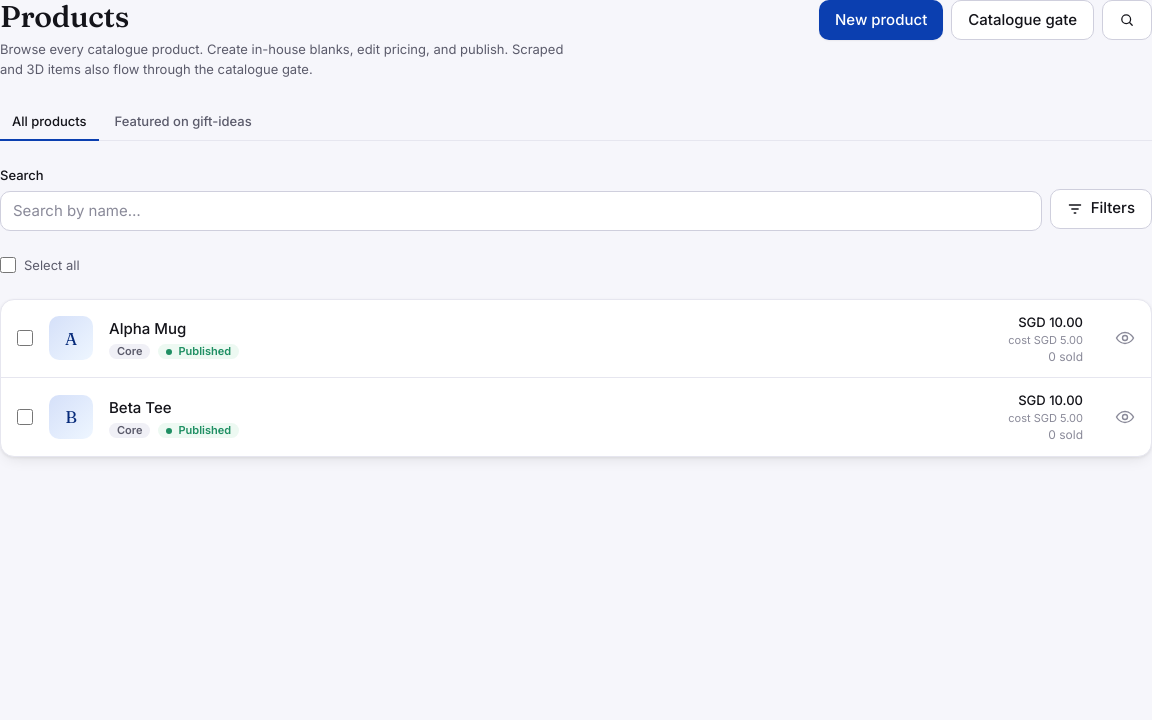
Test case: archives selected products and reflects the outcome
Expected: the text "Alpha Mug" is shown, [109, 319, 186, 338]
Expected: the button "archive selected" is not shown
Step 1. Click the checkbox named "Select Alpha Mug" → (25,338), box [17, 330, 33, 346]
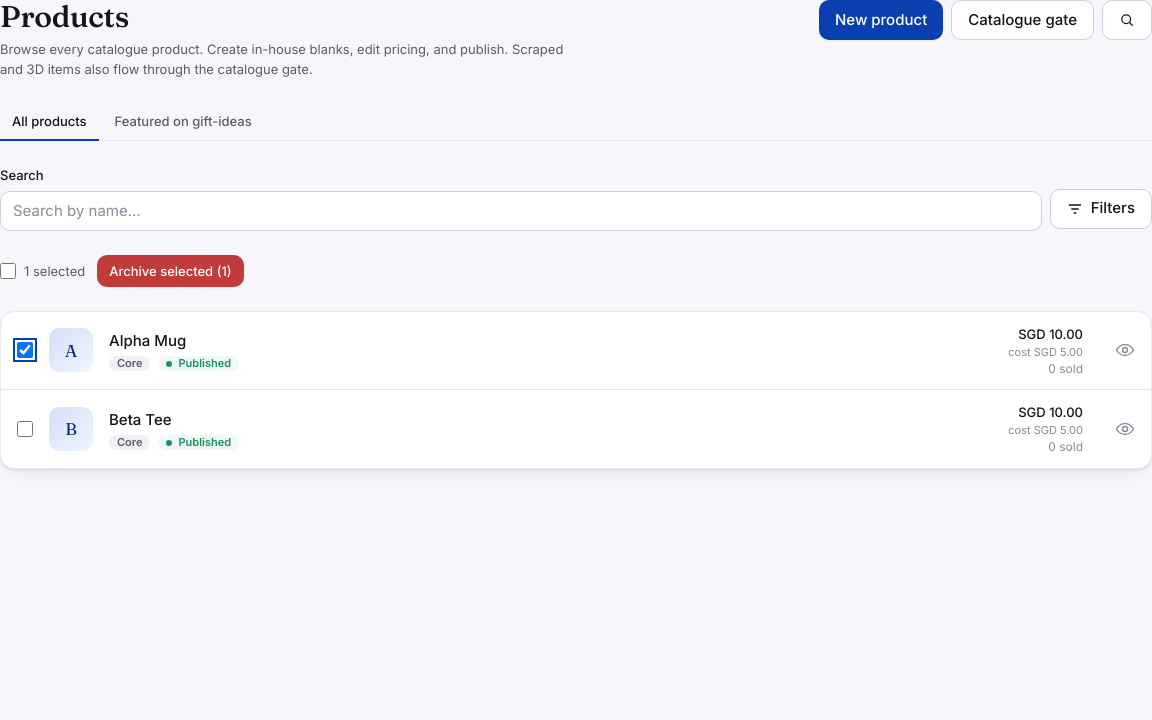
Step 2. Click the button "Archive selected (1)" → (170,270), box [97, 254, 244, 286]
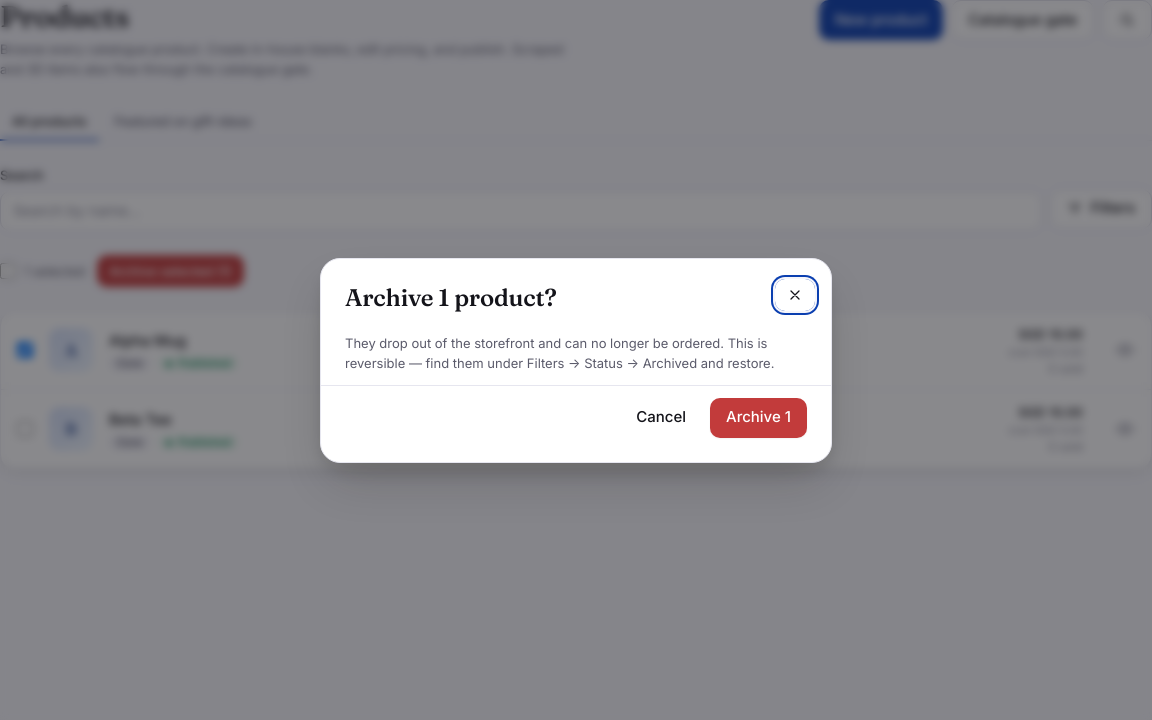
# Confirm dialog, then the destructive action.
Step 3. Click the button "Archive 1" → (758,418), box [710, 398, 807, 438]
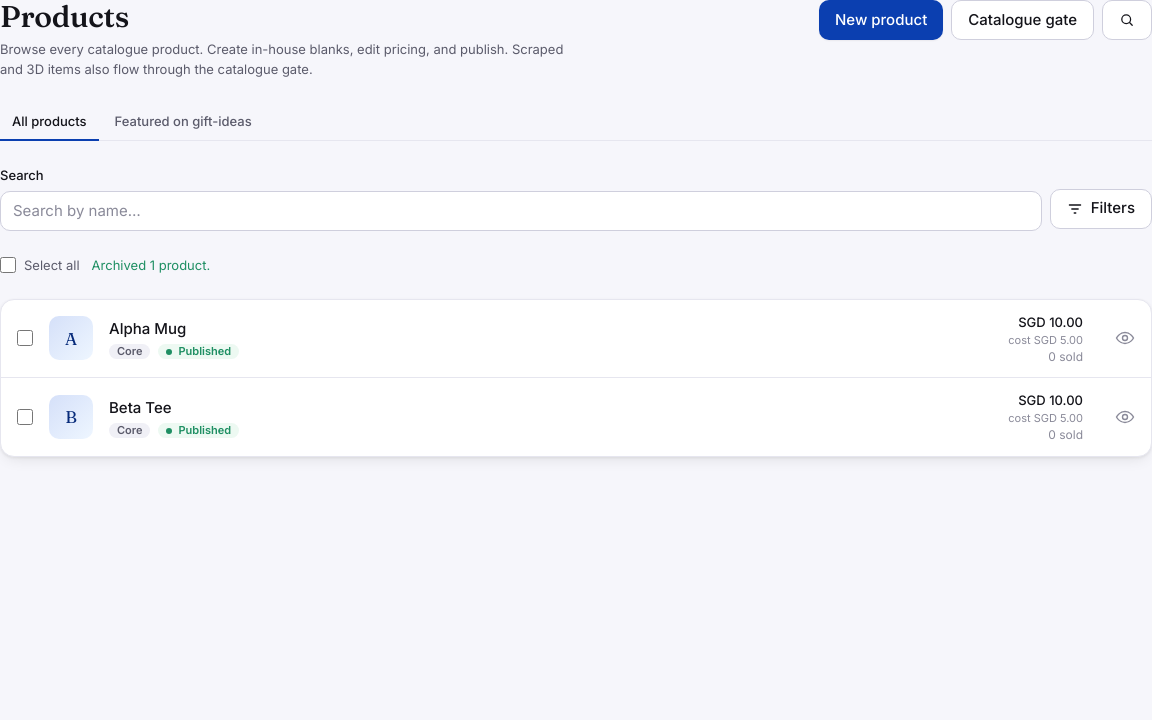
Now the text "Archived 1 product." is shown, box [92, 254, 210, 274]
